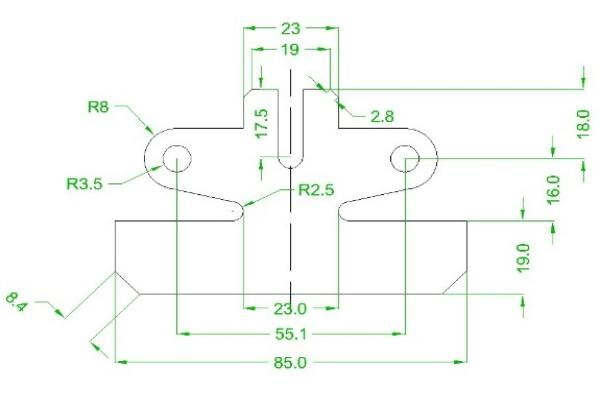dimensions: (542, 170, 568, 212), (510, 238, 536, 279), (61, 172, 106, 195), (266, 352, 312, 374), (571, 103, 596, 142), (0, 285, 30, 316), (294, 179, 338, 200), (269, 323, 310, 345), (364, 104, 406, 125), (272, 298, 312, 320), (250, 106, 272, 142), (82, 94, 113, 118), (278, 19, 306, 38), (280, 40, 304, 60)
